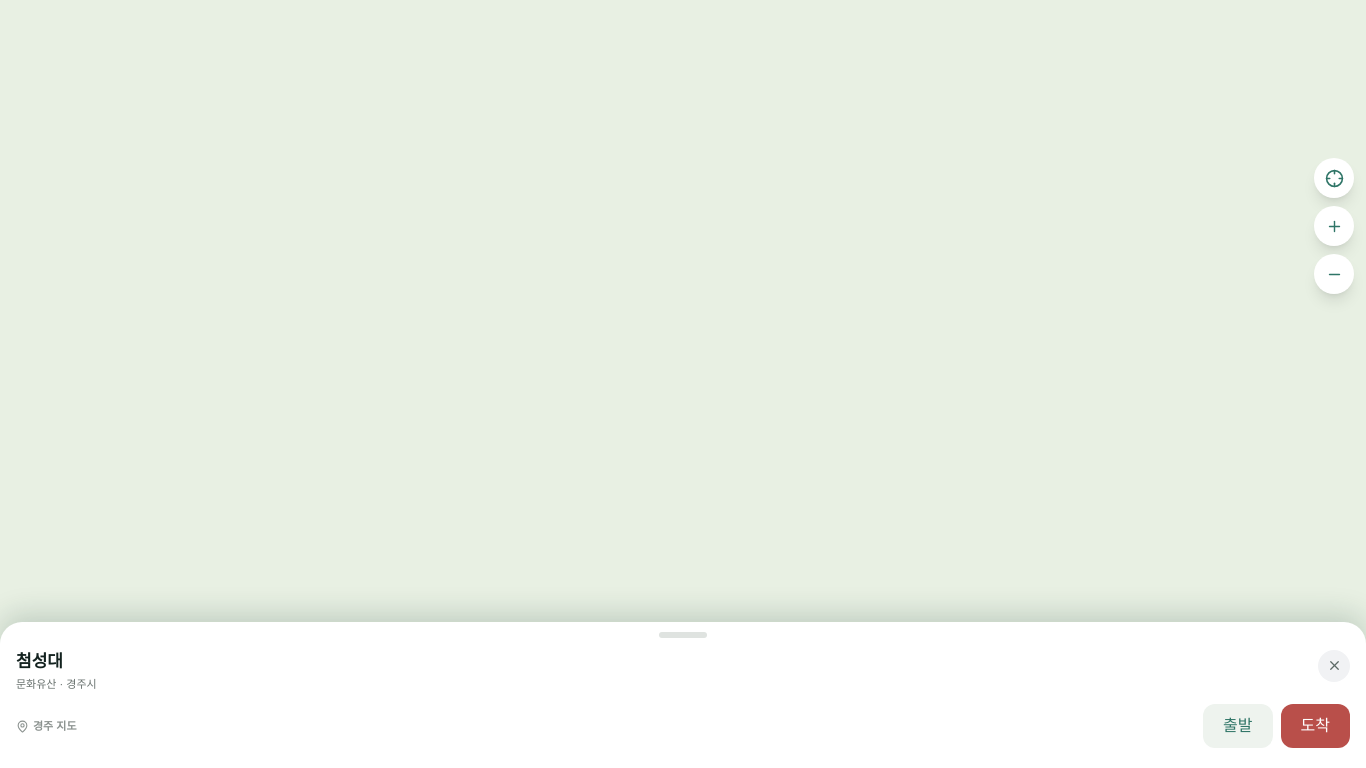
Test: KakaoMapExplorer route state › cancels the watch and ignores a queued denial when selecting a map point
The width and height of the screenshot is (1366, 768).
Click the button with aria-label "도착지 선택".
click(1315, 726)  # box [1280, 704, 1350, 748]
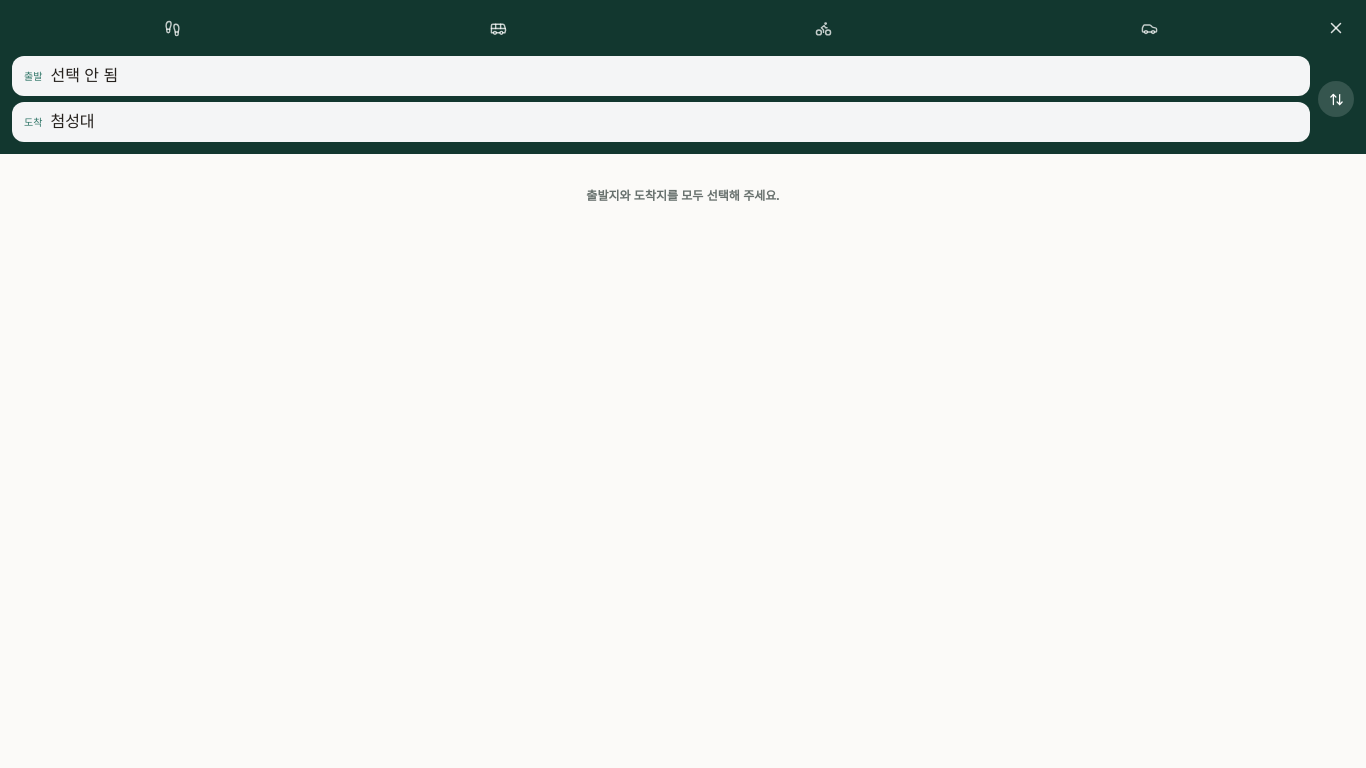
Click the button with aria-label "출발지 선택".
click(84, 76)  # box [12, 56, 1310, 96]
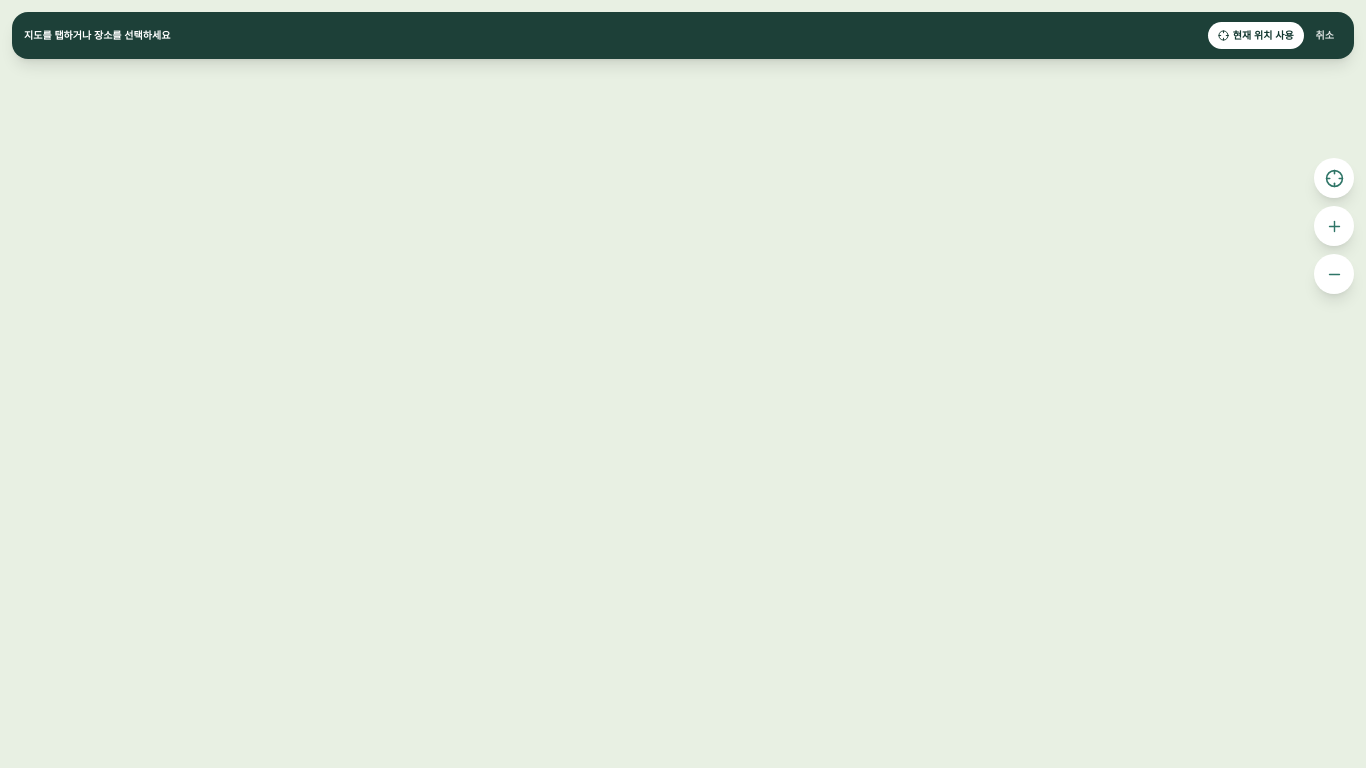
Click the button "현재 위치 사용".
click(1256, 36)  # box [1208, 22, 1304, 49]
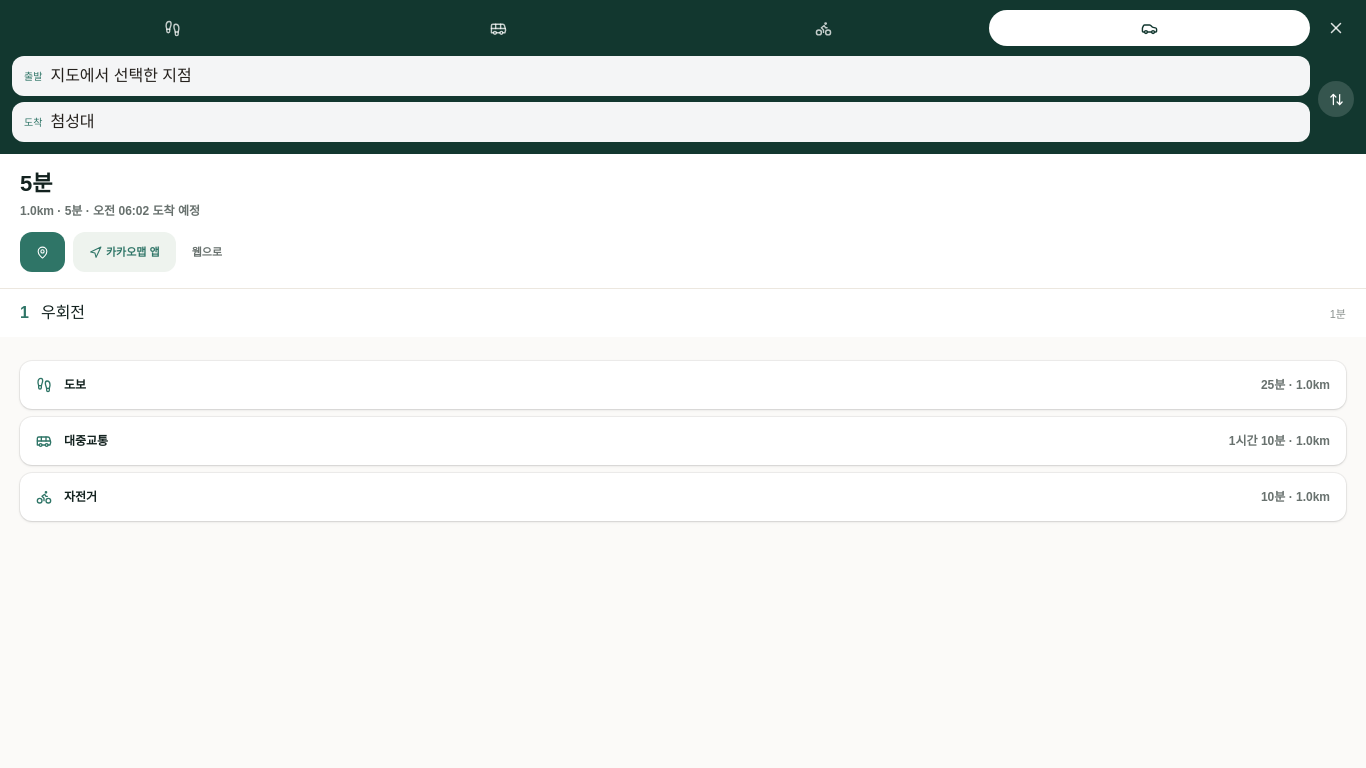
Expected: the button with aria-label "출발지 선택" shows "지도에서 선택한 지점", [12, 56, 1310, 96]
